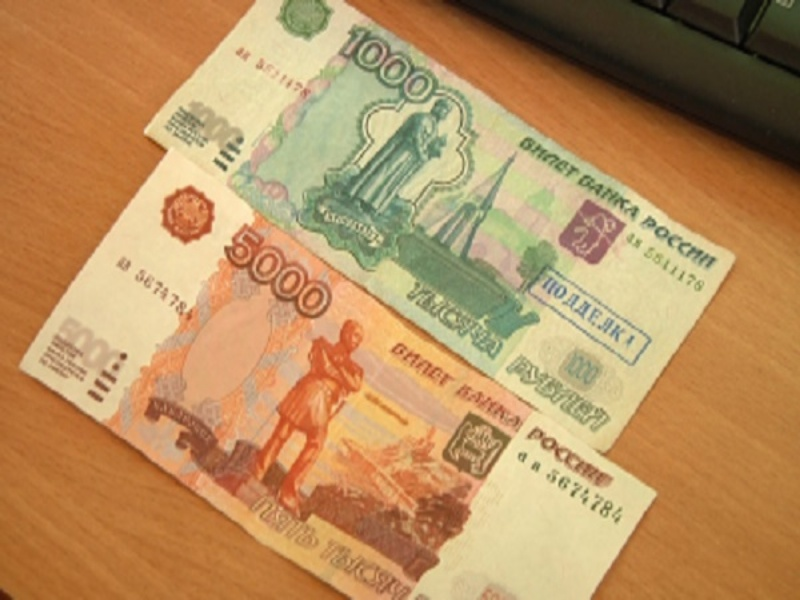cash: (18, 147, 659, 600), (142, 1, 735, 452)
